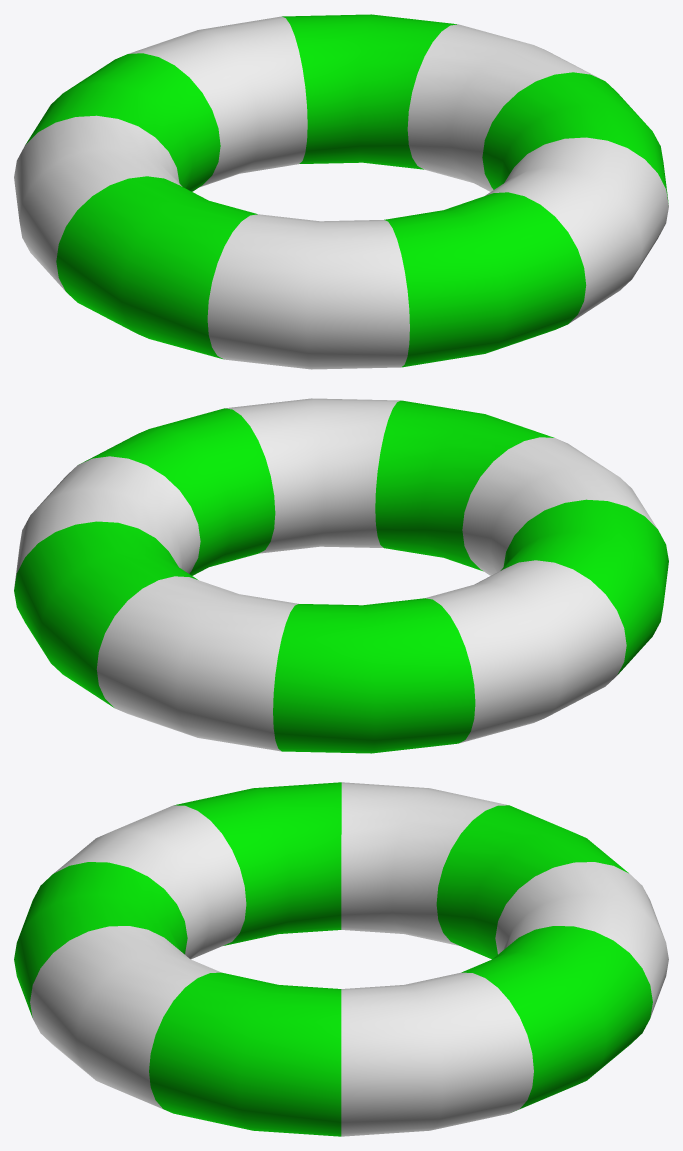
Rendered from Bouée_V.fbx.
3 views of the same model, one above another, from view 1: azimuth 30°, elevation 25°; view 2: azimuth 150°, elevation 25°; view 3: azimuth 270°, elevation 25° (orthographic).
Parts seen in each view (by area): view 1: Bouée_V; view 2: Bouée_V; view 3: Bouée_V.
Part boxes in pixels (bbox=[...]): Bouée_V: bbox=[14, 14, 668, 369]; Bouée_V: bbox=[14, 398, 668, 753]; Bouée_V: bbox=[14, 782, 668, 1136].
Size of the model in its own units: 166 by 36.36 by 166.
